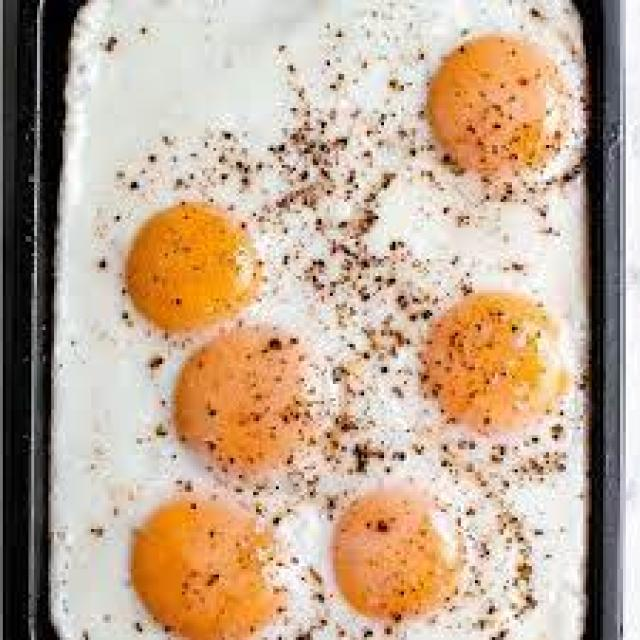Egg: (314, 24, 582, 247), (391, 240, 581, 491), (166, 262, 367, 489), (66, 472, 320, 638), (309, 461, 544, 634), (103, 179, 300, 346)
